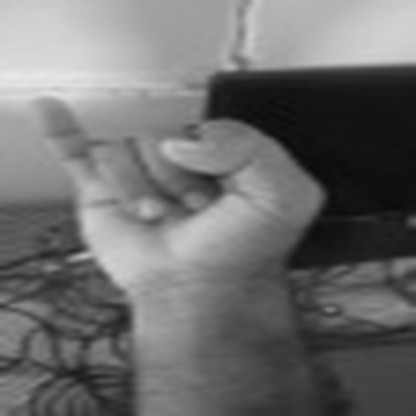i: (11, 80, 374, 304)
